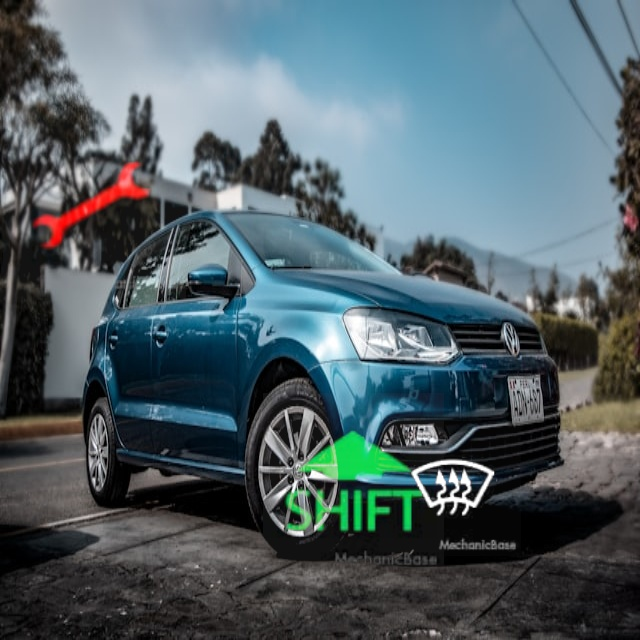symbol: (3, 115, 186, 298), (263, 393, 444, 574), (387, 422, 521, 556)
